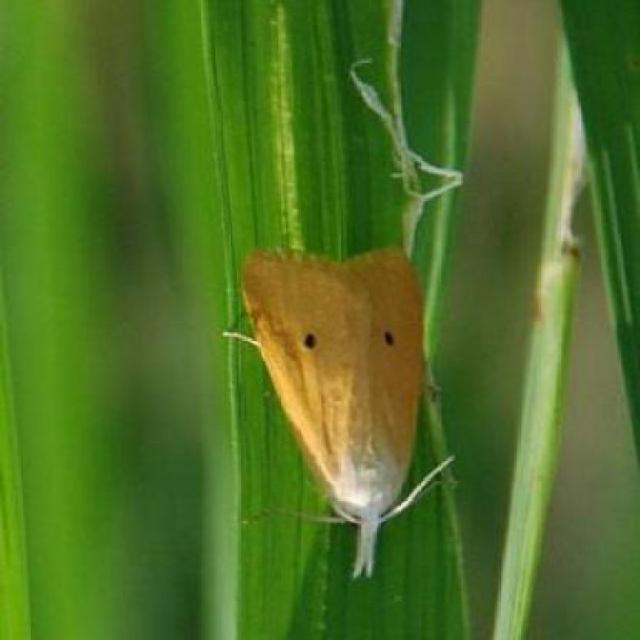stem-borer: (221, 251, 454, 578)
